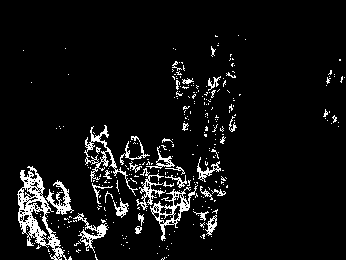person: (43, 179, 111, 260), (145, 137, 192, 242), (13, 165, 63, 260), (82, 120, 129, 219), (188, 147, 230, 240), (119, 133, 153, 235), (170, 58, 200, 130), (209, 75, 239, 144)
